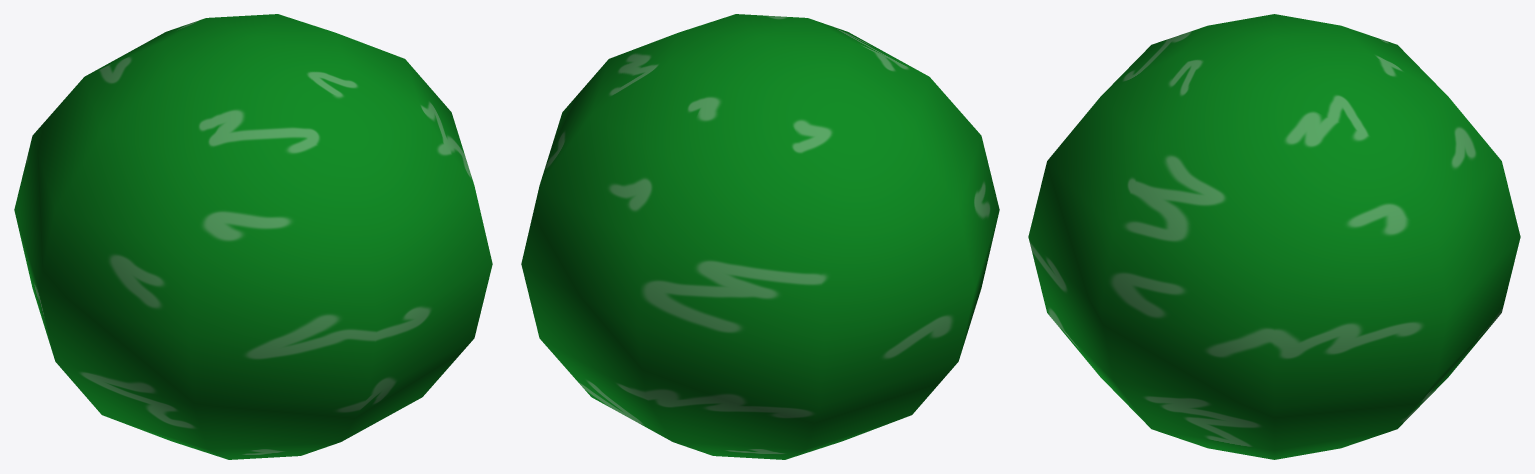
The model's file is SD_BushV2dark.fbx.
3 renders of one model, left to right at view 1: azimuth 30°, elevation 25°; view 2: azimuth 150°, elevation 25°; view 3: azimuth 270°, elevation 25°, orthographic.
Parts seen in each view (by area): view 1: BushV2Dark; view 2: BushV2Dark; view 3: BushV2Dark.
Boxes of the visible parts, x1=… form: BushV2Dark: x1=14, y1=14, x2=492, y2=459; BushV2Dark: x1=521, y1=14, x2=999, y2=459; BushV2Dark: x1=1028, y1=14, x2=1520, y2=459.
Size of the model in its own units: 225 by 200 by 225.
1 material, 1 textured.
